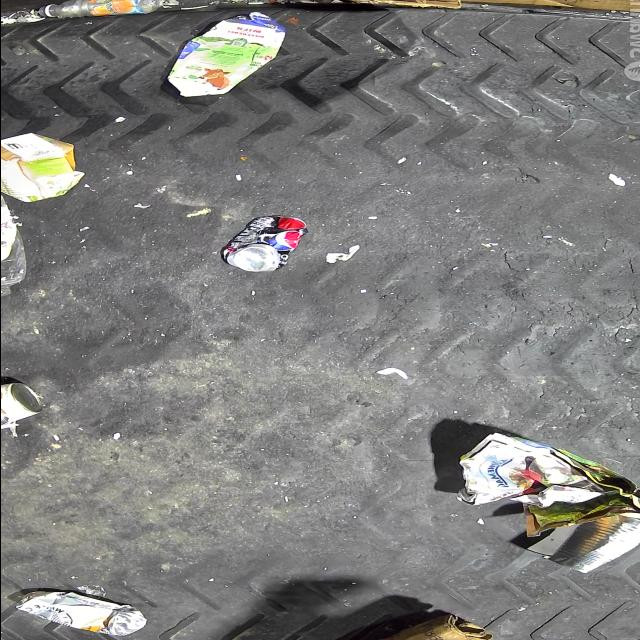can: (14, 590, 148, 636), (547, 514, 640, 574), (220, 215, 307, 273), (0, 382, 41, 430)
non_white_jug: (166, 12, 284, 96), (0, 134, 85, 204)
plastic_bottle: (0, 191, 26, 300), (36, 0, 158, 18)
